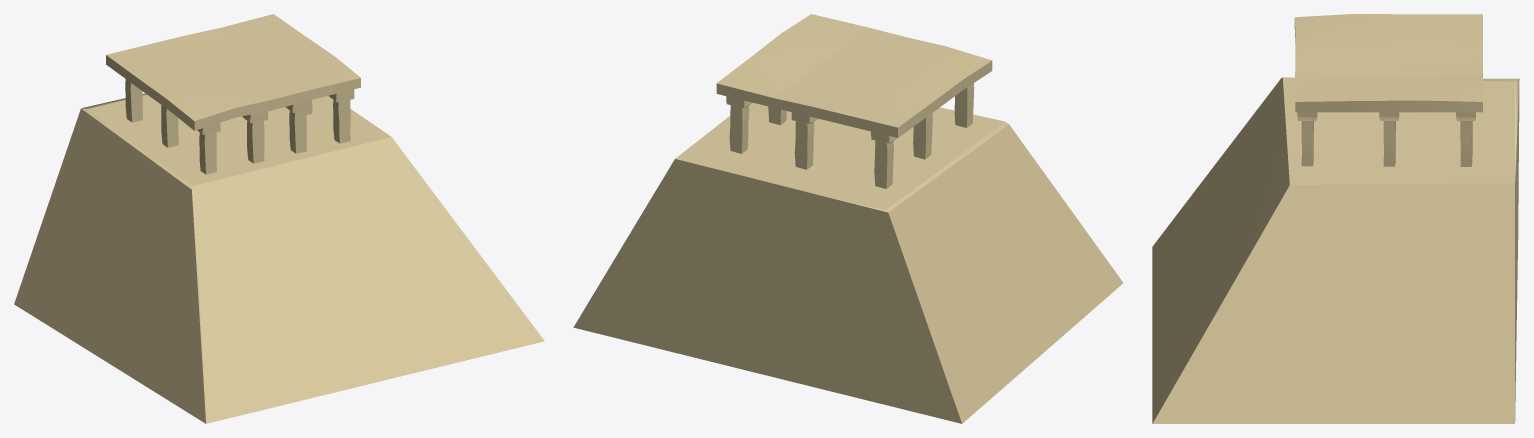
The picture shows the model from 3 angles, left to right: view 1: azimuth 30°, elevation 25°; view 2: azimuth 150°, elevation 25°; view 3: azimuth 270°, elevation 25°; orthographic projection. The views are drawn at different scales.
Visible parts, largest first — view 1: polySurface36; view 2: polySurface36; view 3: polySurface36.
Part boxes in pixels (box(x1,y1,x2,y2)): polySurface36: box(14, 14, 544, 423); polySurface36: box(573, 14, 1123, 423); polySurface36: box(1152, 14, 1519, 423).
Bounding box in the file's own units: 20.97 × 13.6 × 17.25.
